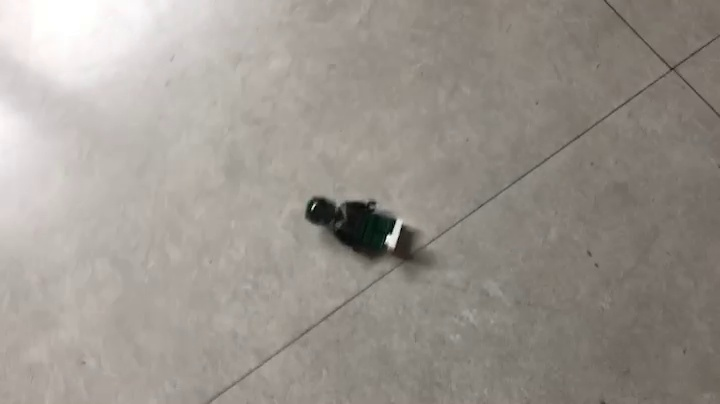people: (305, 195, 417, 264)
